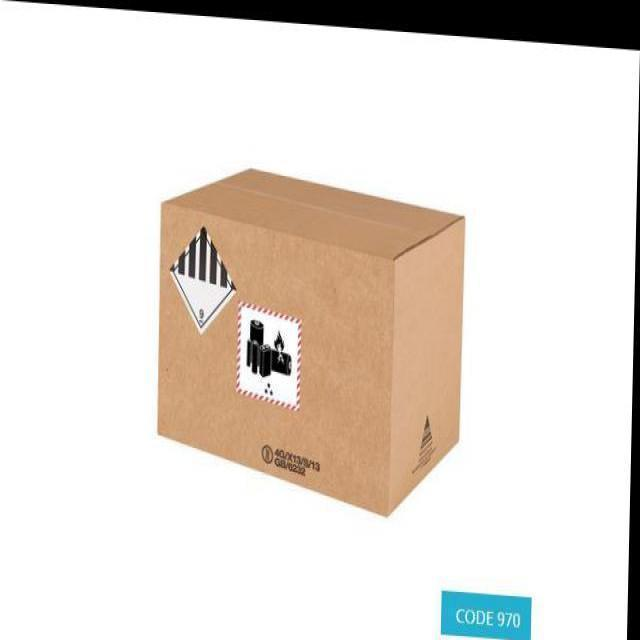box: (148, 161, 474, 518)
